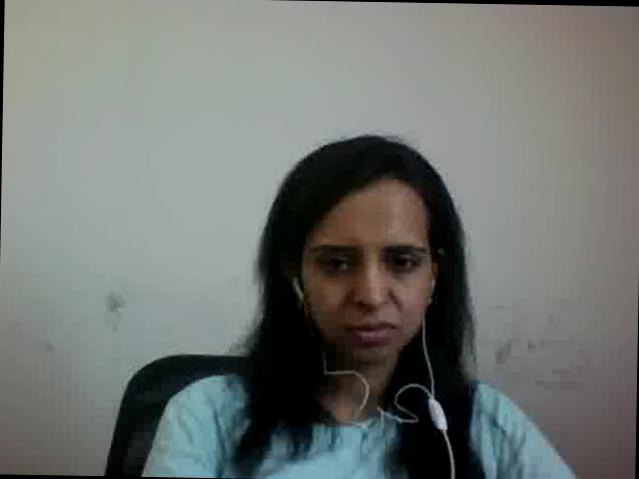bingung: (296, 190, 428, 366)
